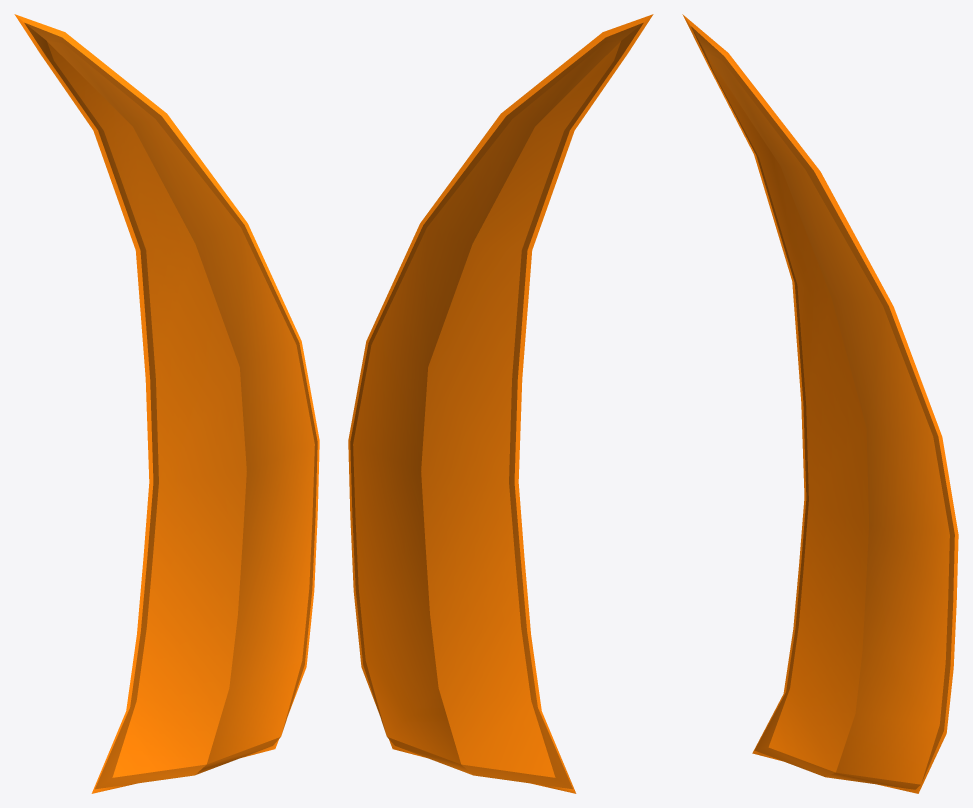
The model's file is bronze_blade (10).glb.
3 views of the same model, side by side, from view 1: azimuth 30°, elevation 25°; view 2: azimuth 150°, elevation 25°; view 3: azimuth 330°, elevation 25° (orthographic). The views are drawn at different scales.
Visible parts, largest first — view 1: bronze_blade_steel.033; view 2: bronze_blade_steel.033; view 3: bronze_blade_steel.033.
Part boxes in pixels (x1,y1,x2,y2): bronze_blade_steel.033: (14, 14, 319, 793); bronze_blade_steel.033: (348, 14, 653, 793); bronze_blade_steel.033: (682, 14, 958, 793).
Bounding box in the file's own units: 4.91 × 12.29 × 0.7262.
Materials: 1 (1 with a texture image).
